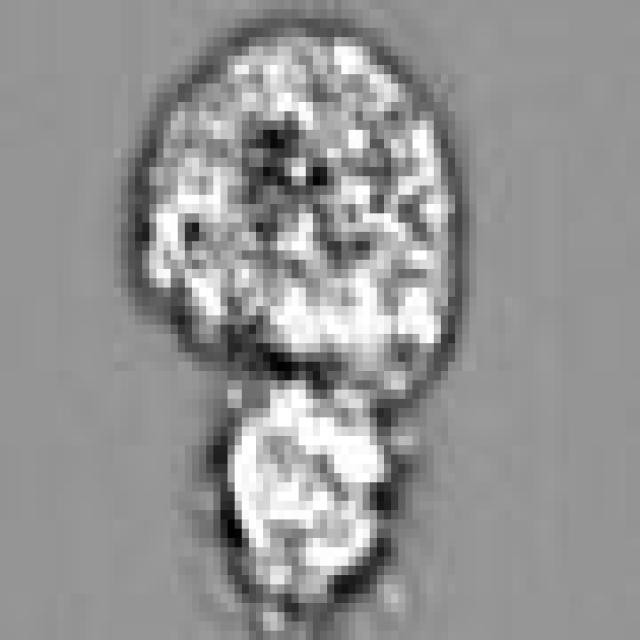Cancer Cell: (142, 18, 455, 390)
WBC: (220, 371, 398, 603)
